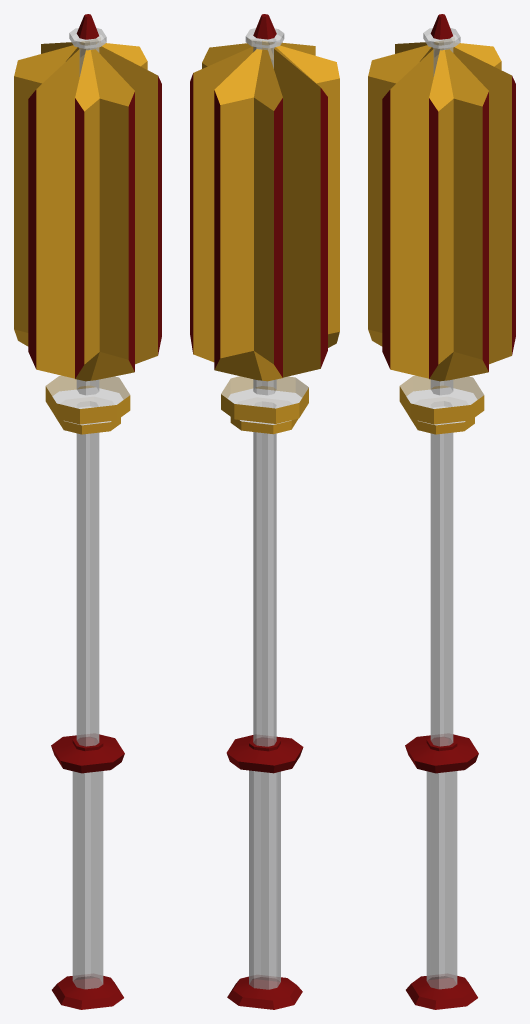
Rendered from weaponChariot_04.fbx.
3 renders of one model, left to right at view 1: azimuth 90°, elevation 25°; view 2: azimuth 150°, elevation 25°; view 3: azimuth 270°, elevation 25°, orthographic.
Parts seen in each view (by area): view 1: whirlingMace; view 2: whirlingMace; view 3: whirlingMace.
Boxes of the visible parts, box(x1,y1,x2,y2) form: whirlingMace: box(14, 14, 161, 1009); whirlingMace: box(190, 14, 339, 1009); whirlingMace: box(368, 14, 515, 1009).
Bounding box in the file's own units: 0.2978 × 2.15 × 0.294.
